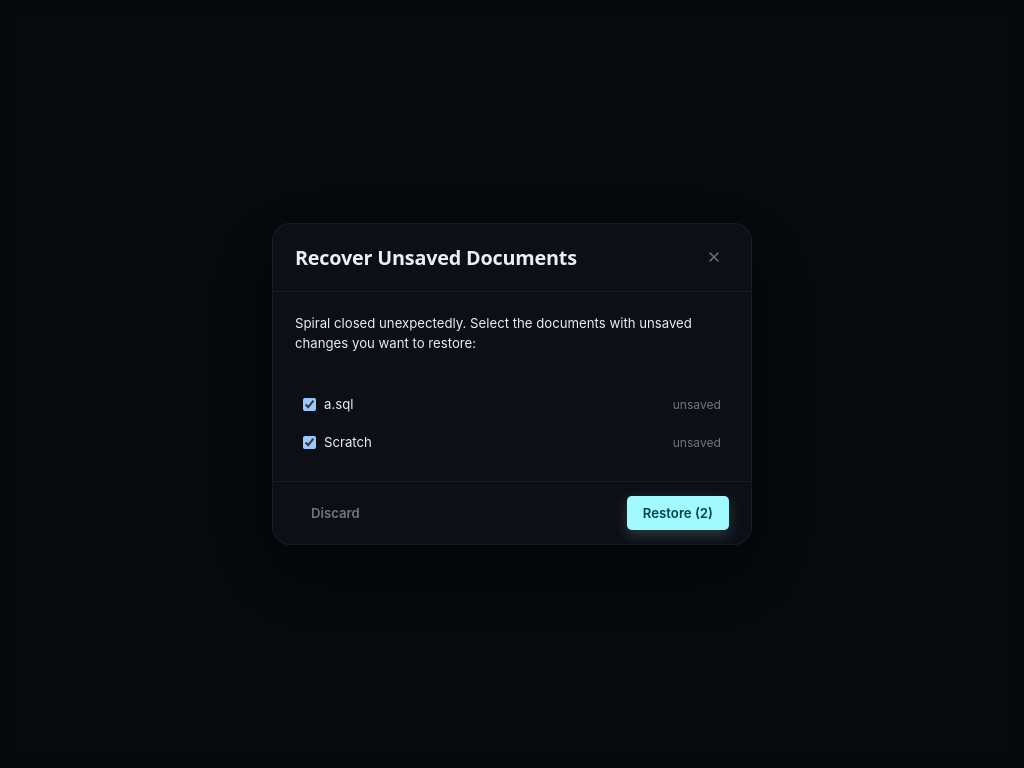
Test: RestoreRecoveredDocumentsDialog › disables Restore when no draft is selected
The width and height of the screenshot is (1024, 768).
Click the checkbox labelled "a.sql unsaved" at [310, 404], box [303,398,316,411]
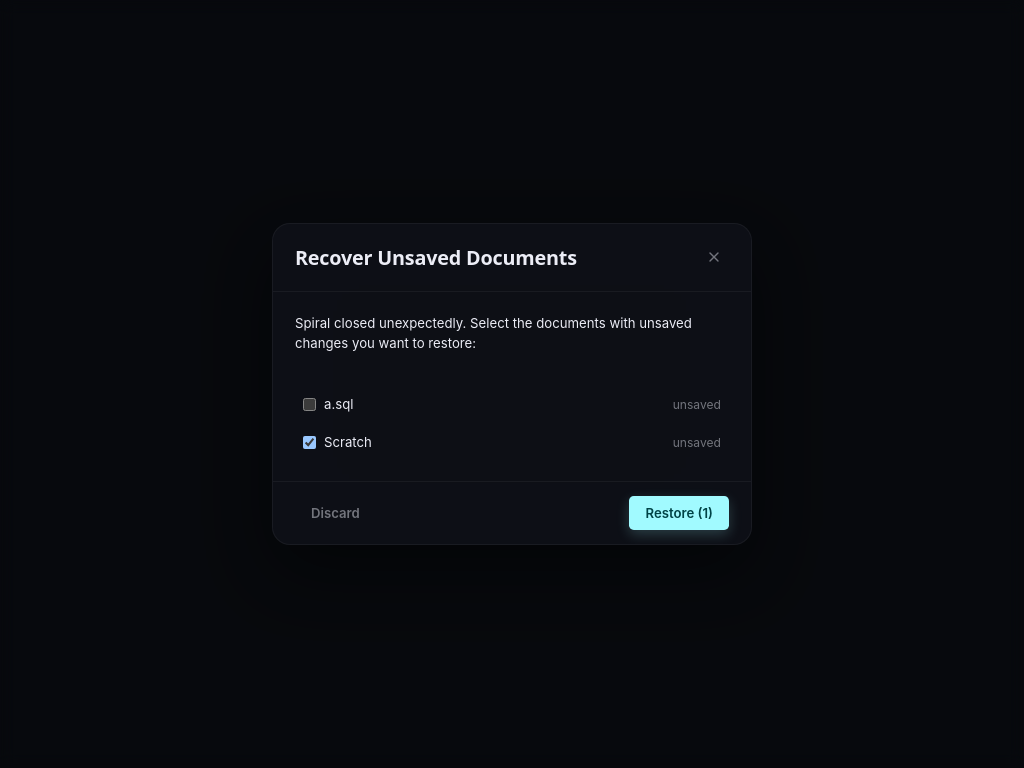
Click the checkbox labelled "Scratch unsaved" at [310, 442], box [303,436,316,449]
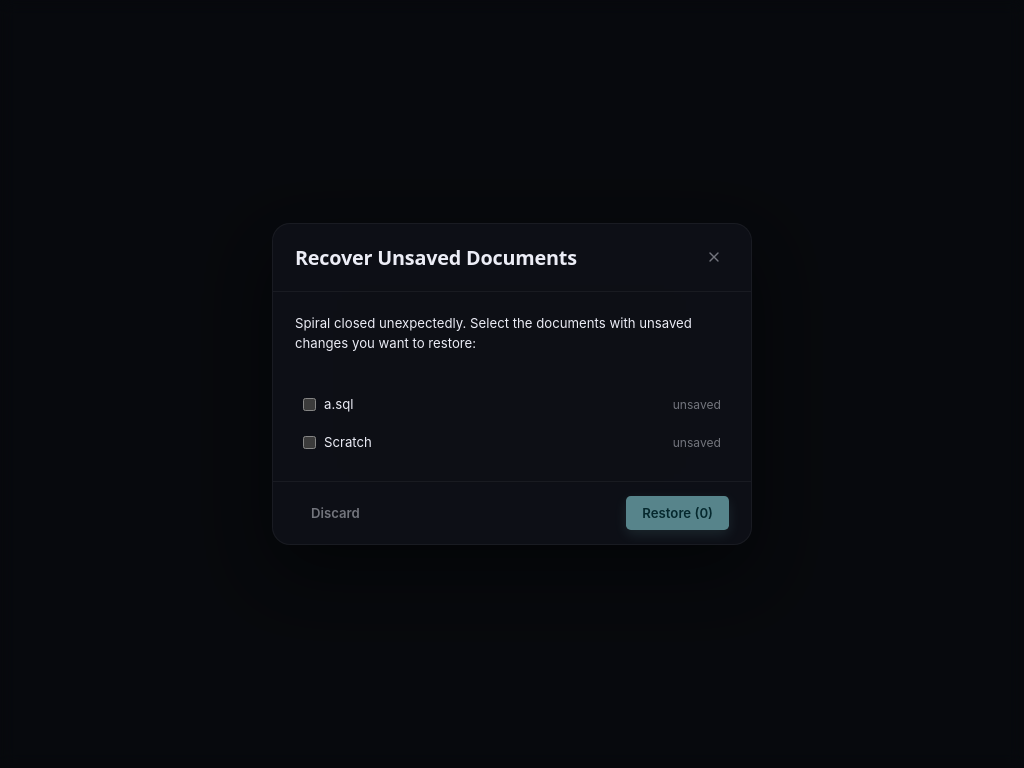
Check: the button "Restore (0)" is disabled, box [626,496,729,530]
